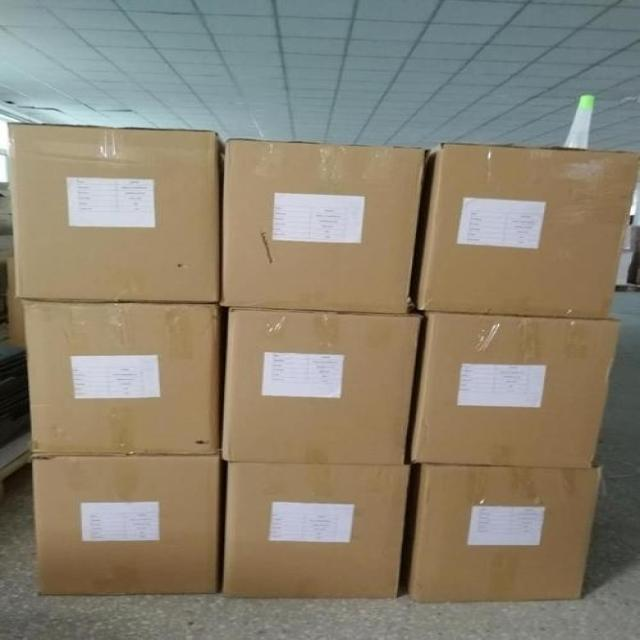box: (410, 143, 639, 319), (7, 121, 225, 303), (221, 139, 427, 313), (404, 311, 620, 469), (220, 298, 418, 464), (22, 295, 220, 454), (399, 460, 602, 605), (32, 452, 221, 595), (218, 461, 411, 598)
